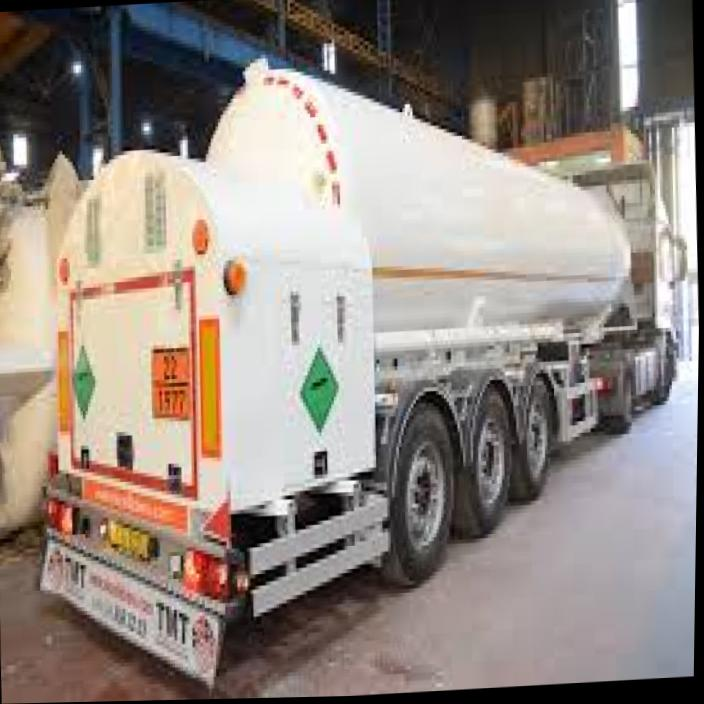building map: (289, 344, 347, 441), (68, 343, 100, 424)
